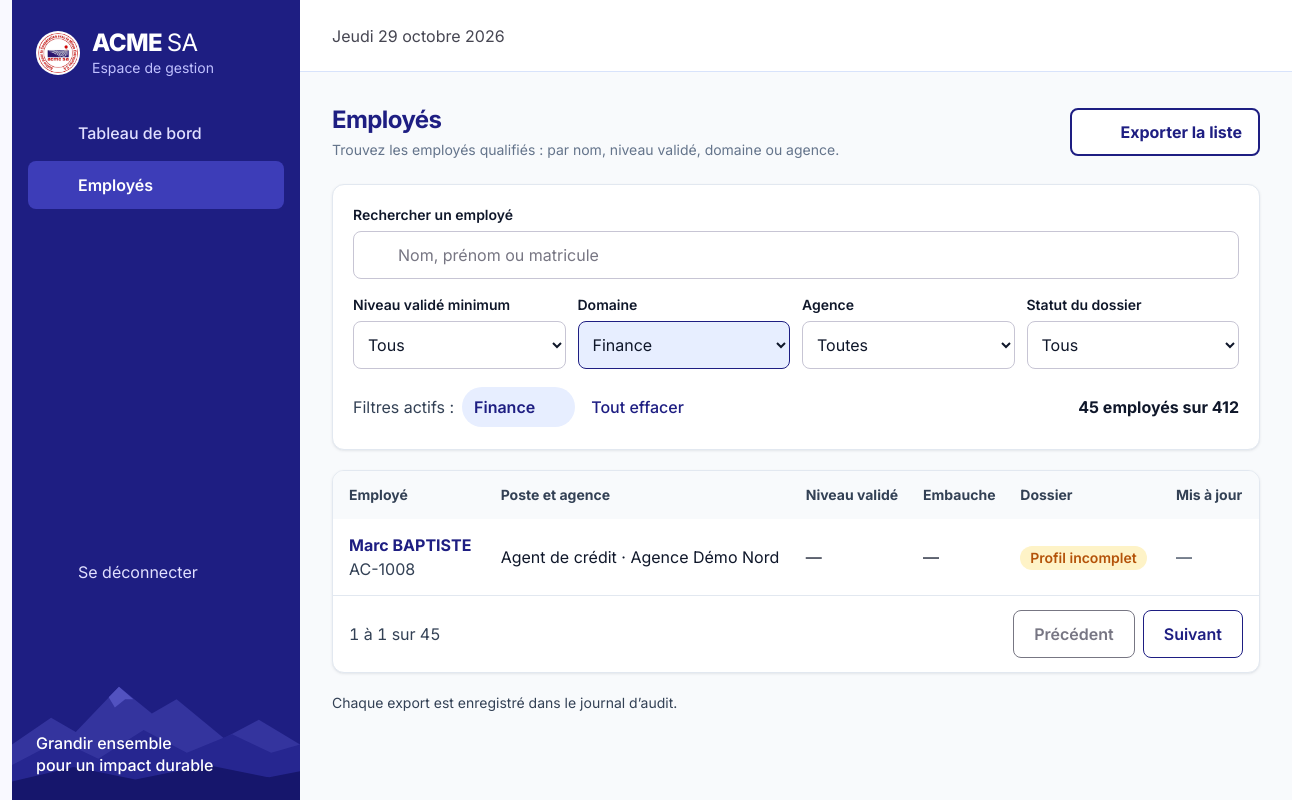
Test: US-134 CA-06 — pagination › la pagination conserve les filtres de l’adresse ; page invalide → page 1
Click the button "Suivant". click: (1193,634)
box: [1143, 610, 1243, 658]
(page scrolled)
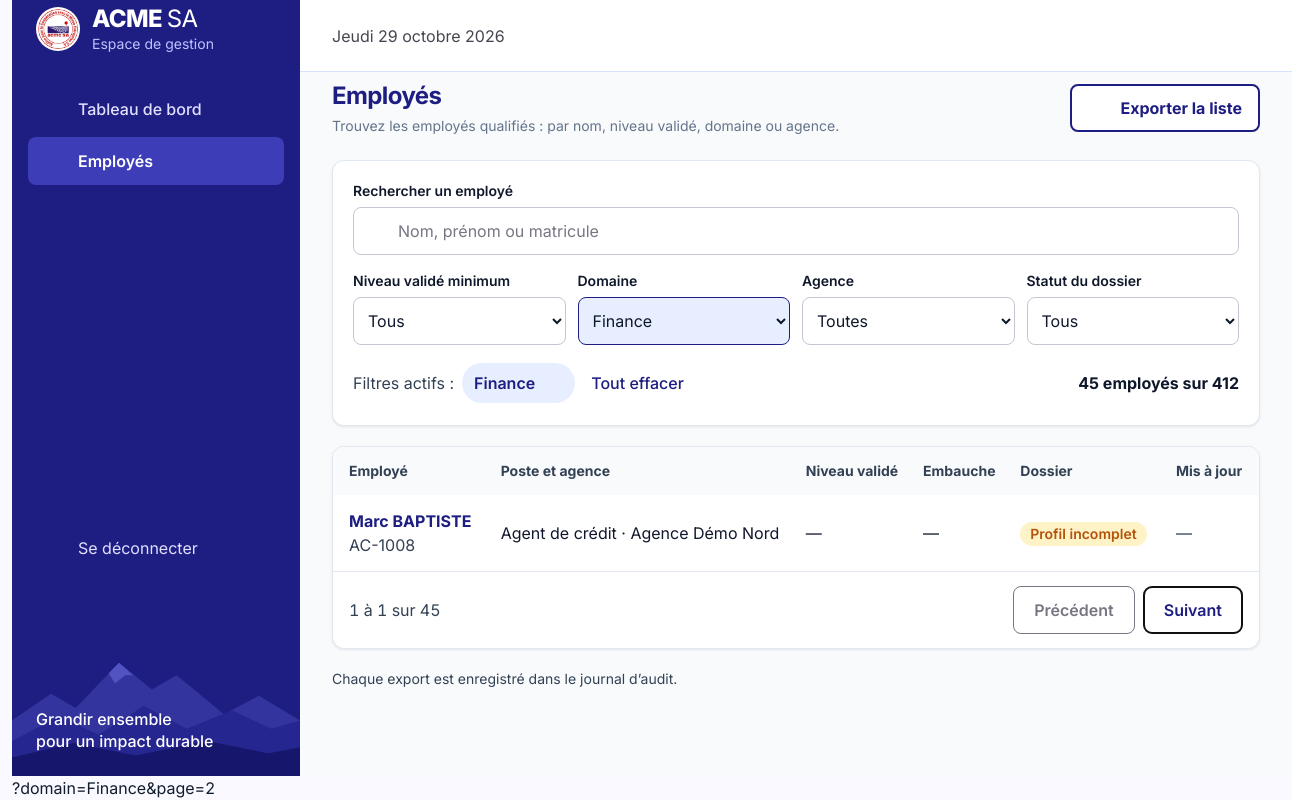
Check: the text named "adresse" reads "?domain=Finance&page=2", box [12, 778, 215, 798]
